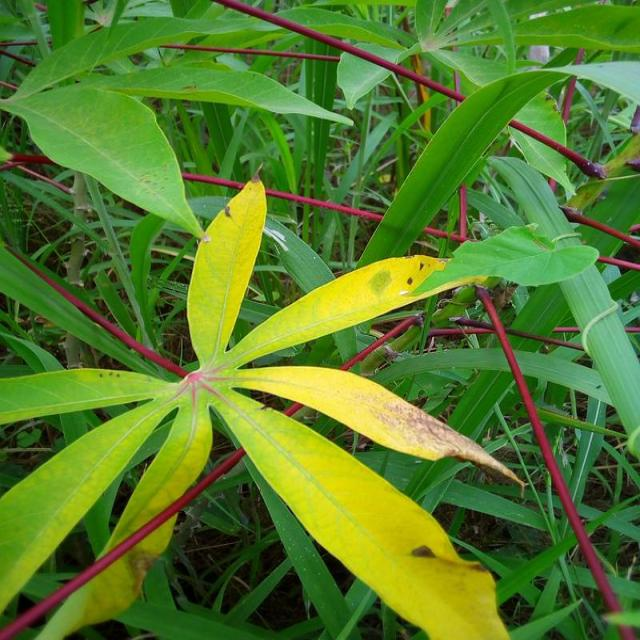cassava leaf: (0, 169, 524, 638), (210, 384, 511, 638), (2, 81, 206, 241), (185, 171, 267, 369)
